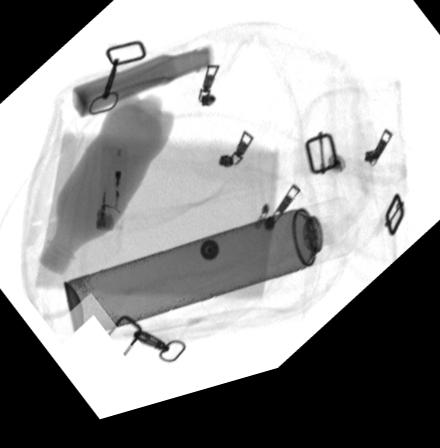Lighter: (94, 150, 131, 238)
Sprayer: (63, 214, 358, 344)
